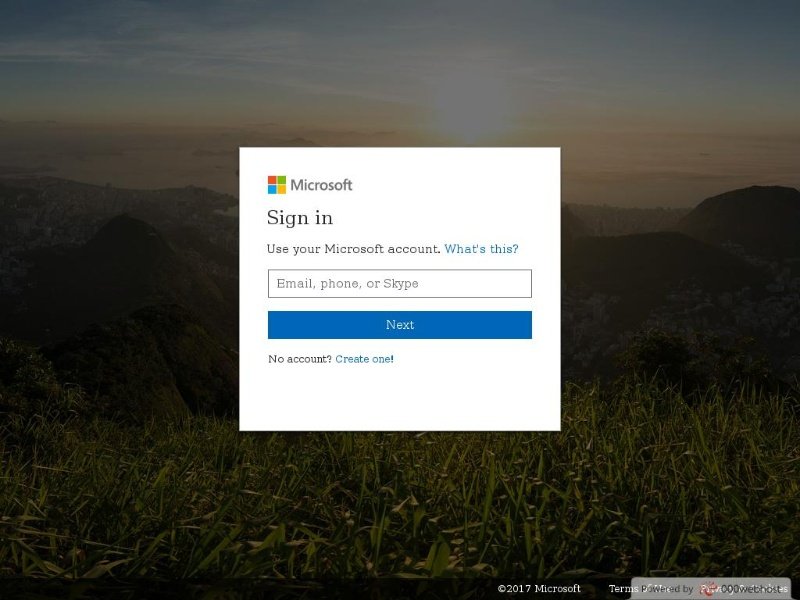msft: (252, 168, 393, 207)
